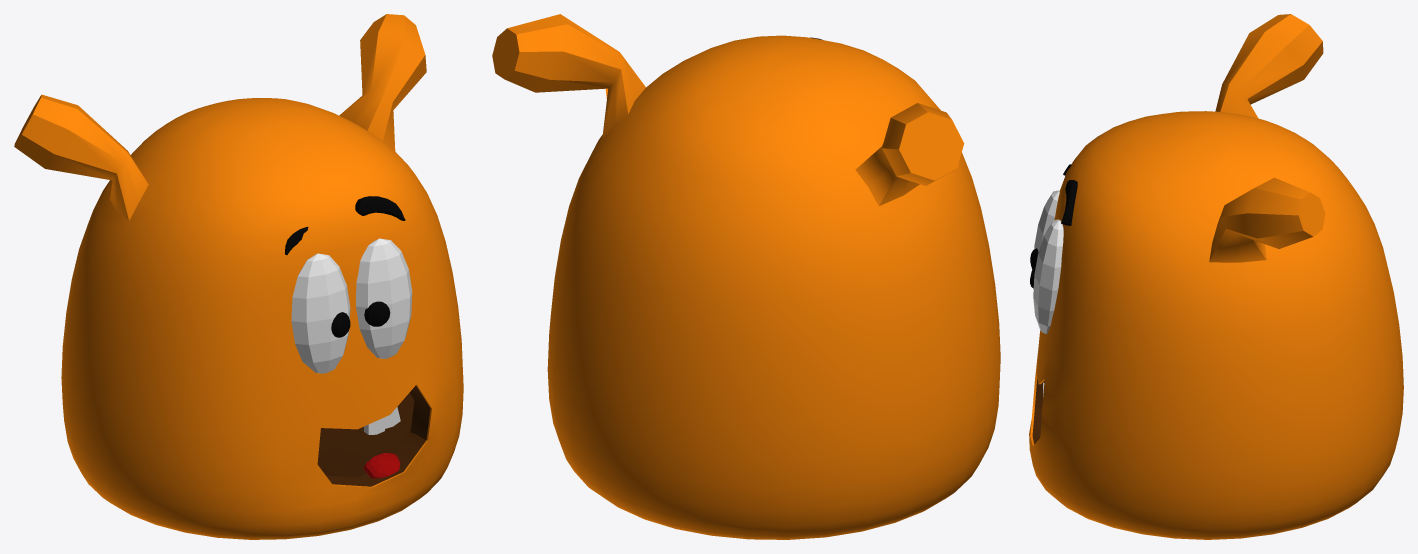
Rendered from Pop_Color.fbx.
3 renders of one model, left to right at view 1: azimuth 30°, elevation 25°; view 2: azimuth 150°, elevation 25°; view 3: azimuth 270°, elevation 25°, orthographic. The views are drawn at different scales.
Parts seen in each view (by area): view 1: pSphere1, pSphere3, pSphere2, pCube3, pSphere4; view 2: pSphere1; view 3: pSphere1, pSphere2, pSphere3, pCube3.
Part boxes in pixels (x1,y1,x2,y2): pSphere1: (14, 14, 463, 539); pSphere3: (291, 253, 350, 373); pSphere2: (356, 238, 412, 358); pCube3: (355, 196, 405, 220); pSphere4: (363, 453, 400, 478); pSphere1: (492, 14, 1000, 539); pSphere1: (1029, 14, 1403, 539); pSphere2: (1033, 219, 1063, 334); pSphere3: (1034, 190, 1059, 251); pCube3: (1061, 180, 1077, 225).
Bounding box in the file's own units: 2.09 × 1.9 × 1.72.
